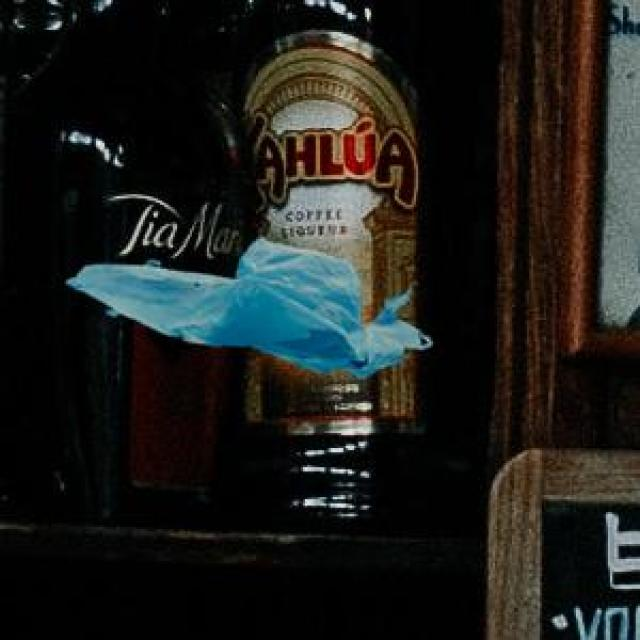plastic: (55, 165, 465, 425)
